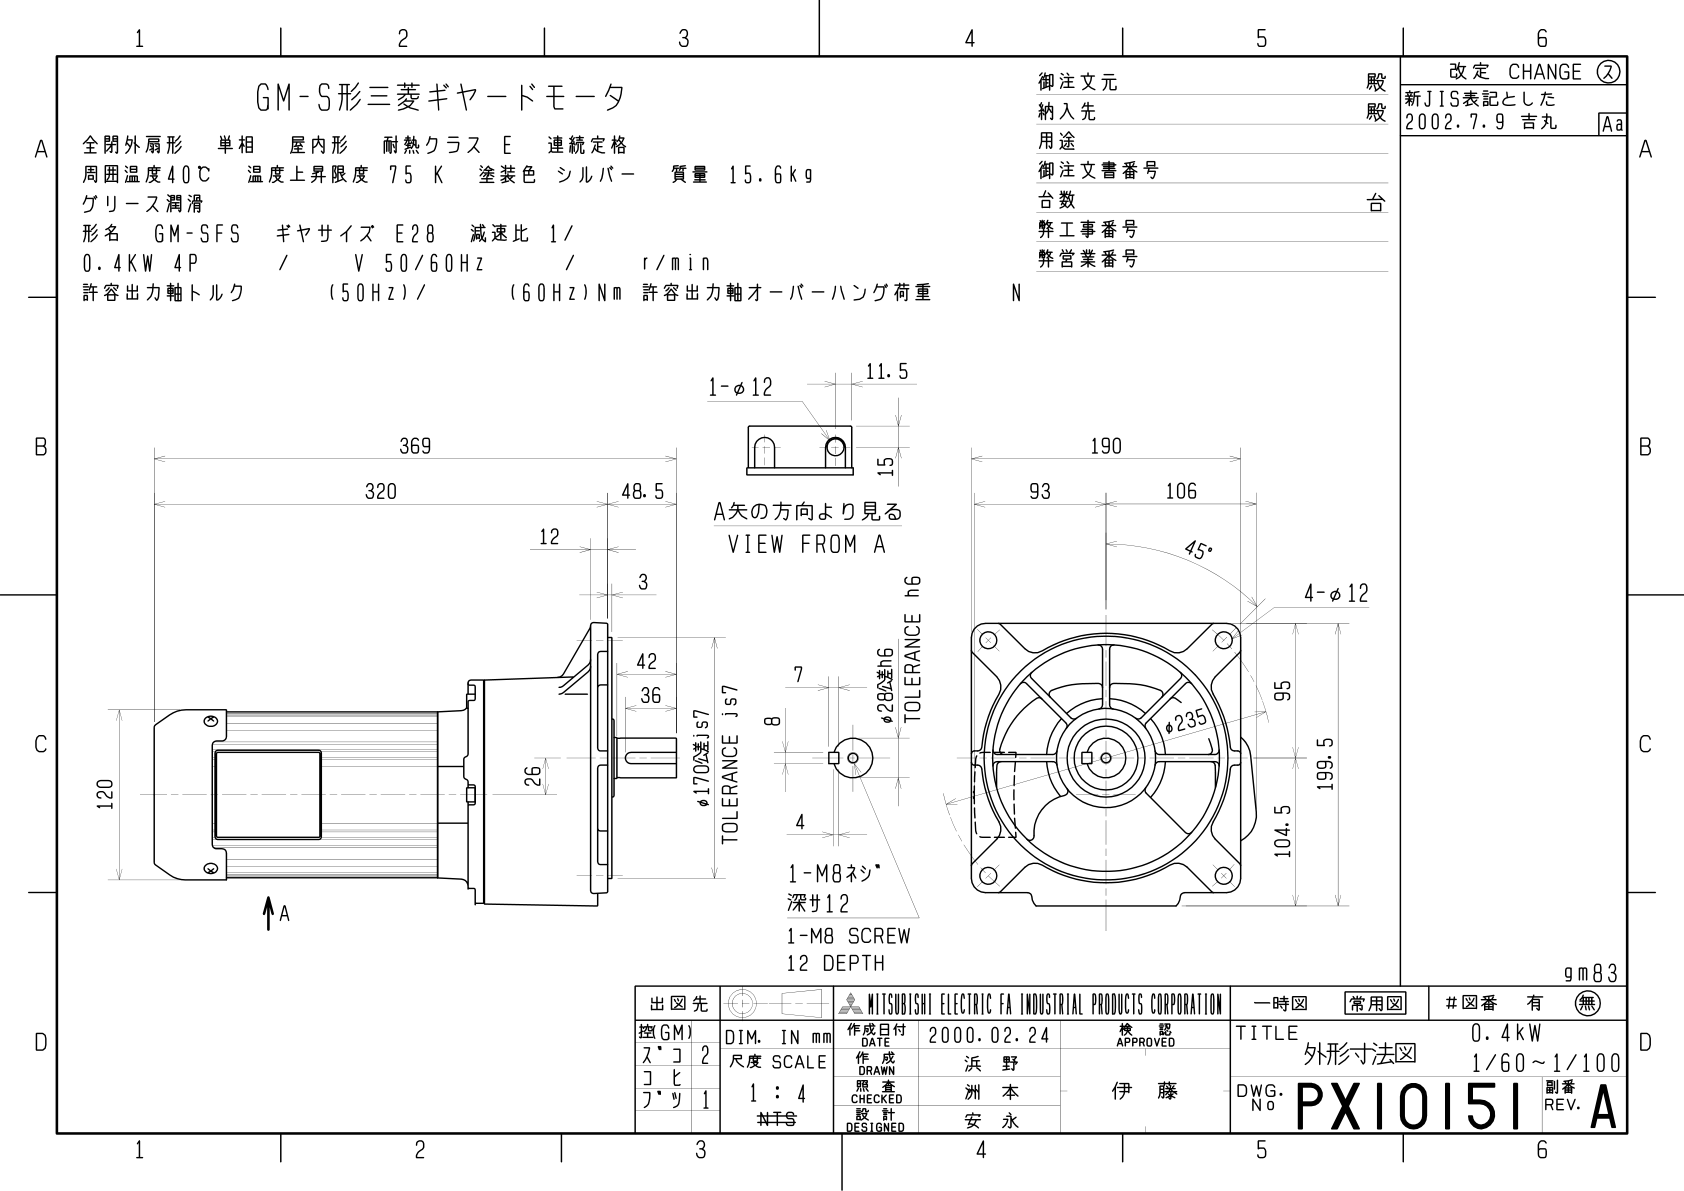GM_S_屋内＿単相_フランジ: (77, 345, 1375, 986)
